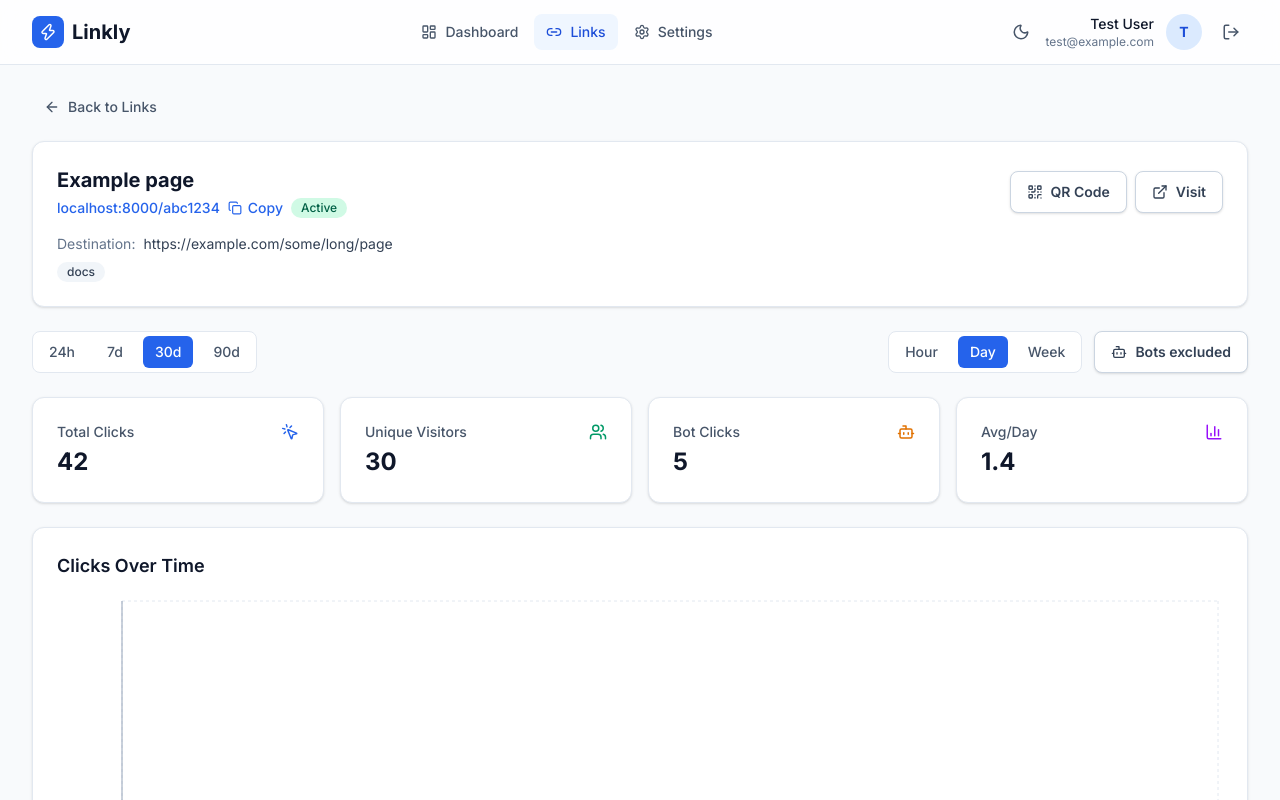
Test: protected routes › shows link stats and re-queries with bots when asked
The image size is (1280, 800).
Check: the heading "Example page" is shown, box [57,168,194,192]
Check: the text "30" is shown, box [365,447,397,476]
Click the button "Bots excluded": (1171, 352) [1094,331,1248,373]
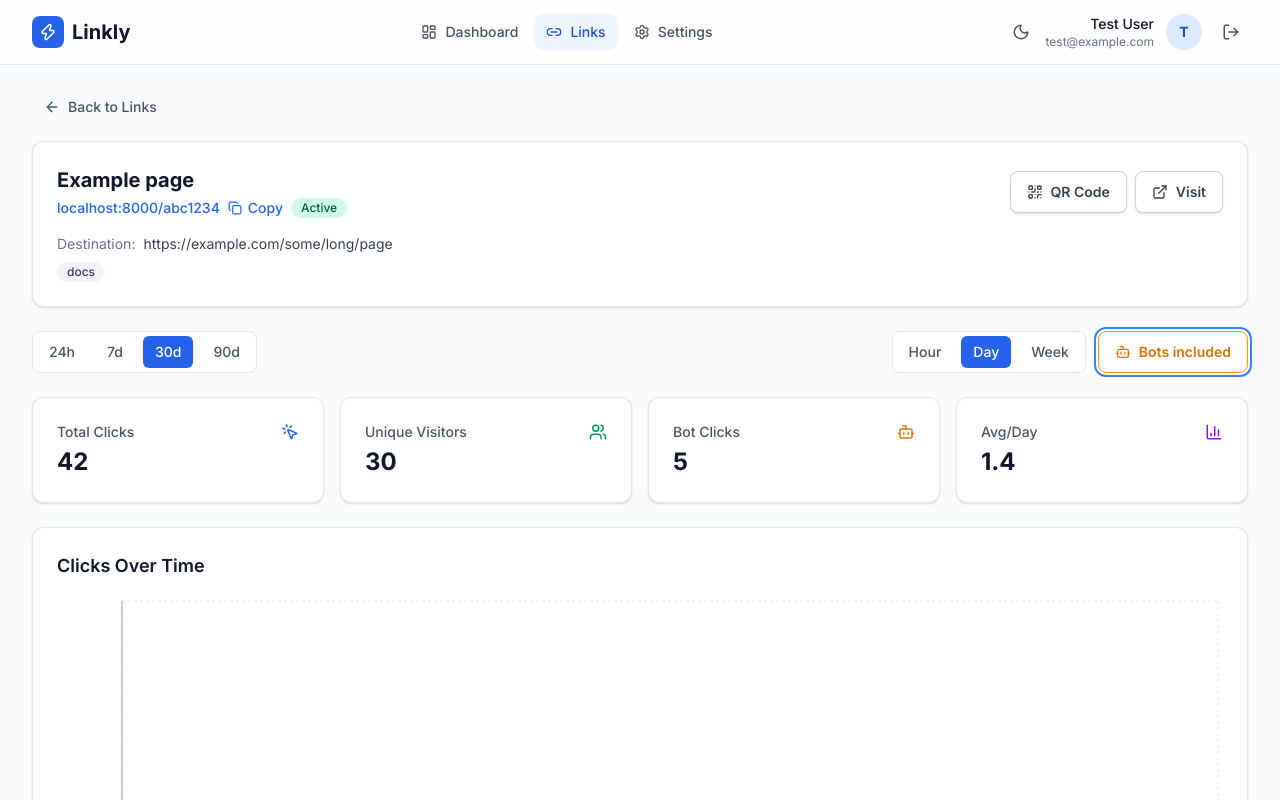
Check: the button "Bots included" is shown, box [1098,331,1248,373]
